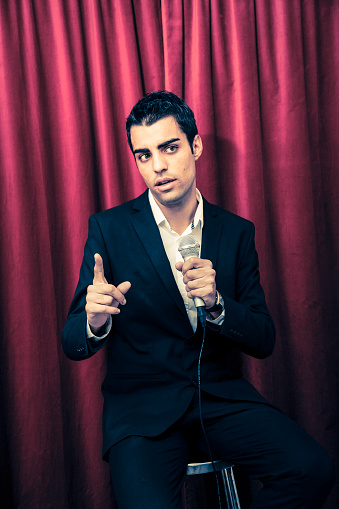em pe: (50, 94, 277, 509)
